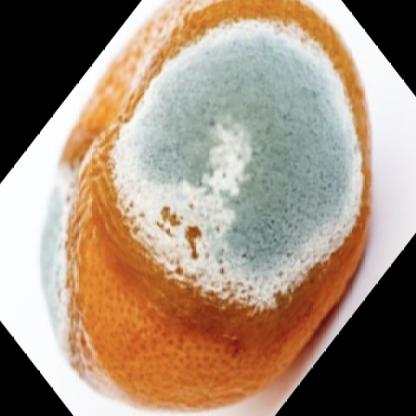rotten: (40, 1, 376, 416)
